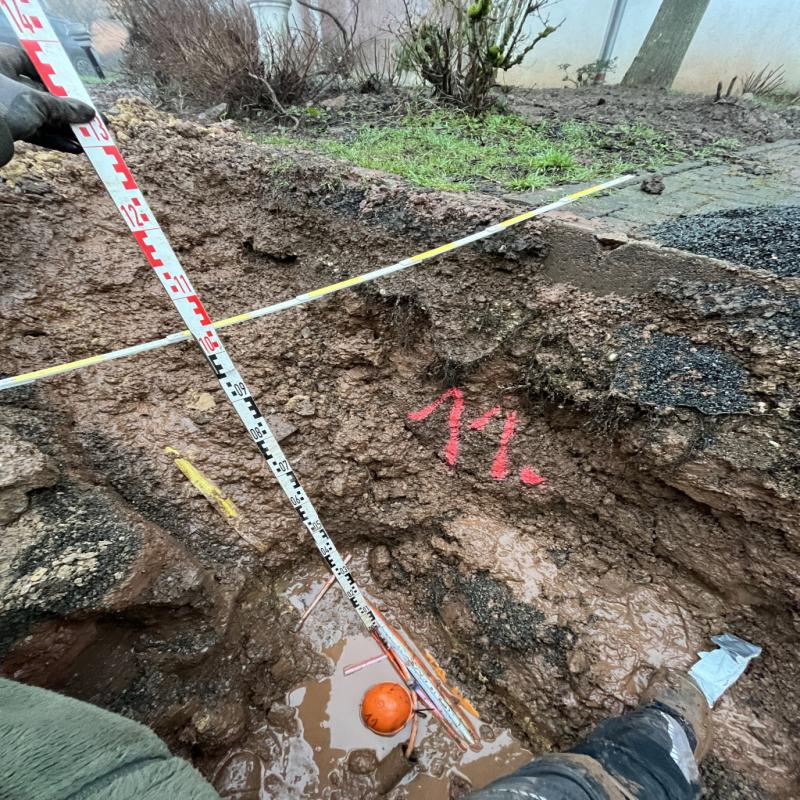Kugelmarker: (359, 682, 413, 735)
Orang-Speednetrohrchen: (381, 617, 478, 745)
